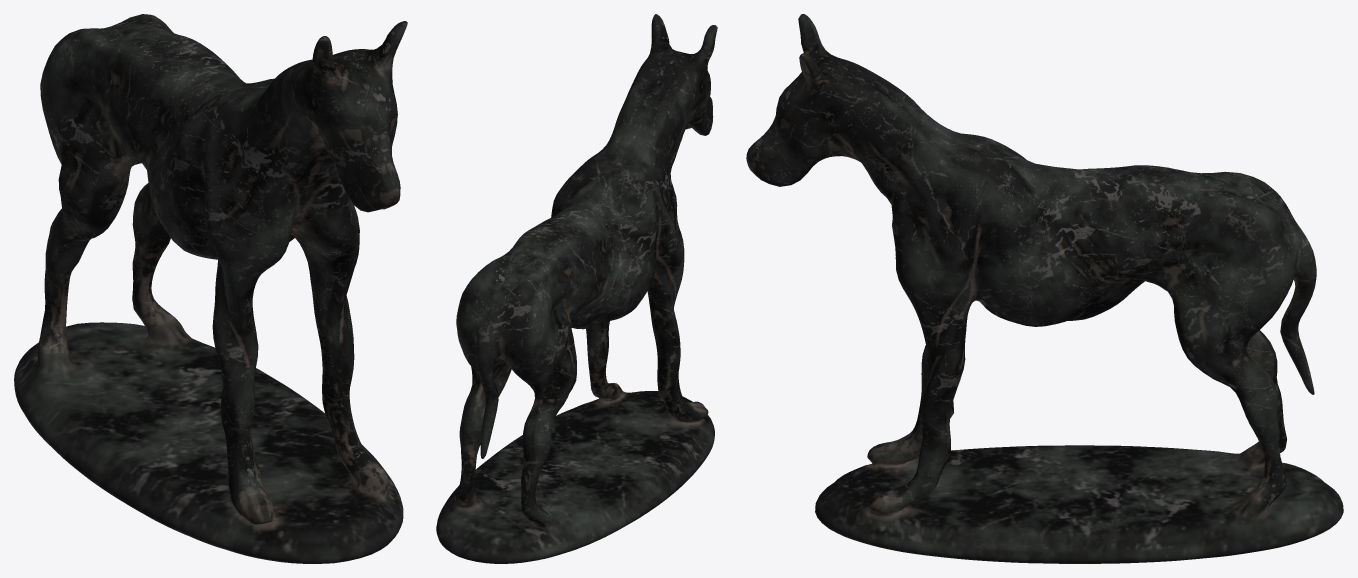
File: dobermanv2.glb
The picture shows the model from 3 angles, left to right: view 1: azimuth 30°, elevation 25°; view 2: azimuth 150°, elevation 25°; view 3: azimuth 270°, elevation 25°; orthographic projection. The views are drawn at different scales.
Visible parts, largest first — view 1: Dobermann_statue_low; view 2: Dobermann_statue_low; view 3: Dobermann_statue_low.
Part boxes in pixels (x1,y1,x2,y2): Dobermann_statue_low: (14, 14, 407, 563); Dobermann_statue_low: (436, 14, 717, 563); Dobermann_statue_low: (746, 14, 1343, 563).
Bounding box in the file's own units: 0.1013 × 0.2236 × 0.2472.
1 material, 1 textured.
